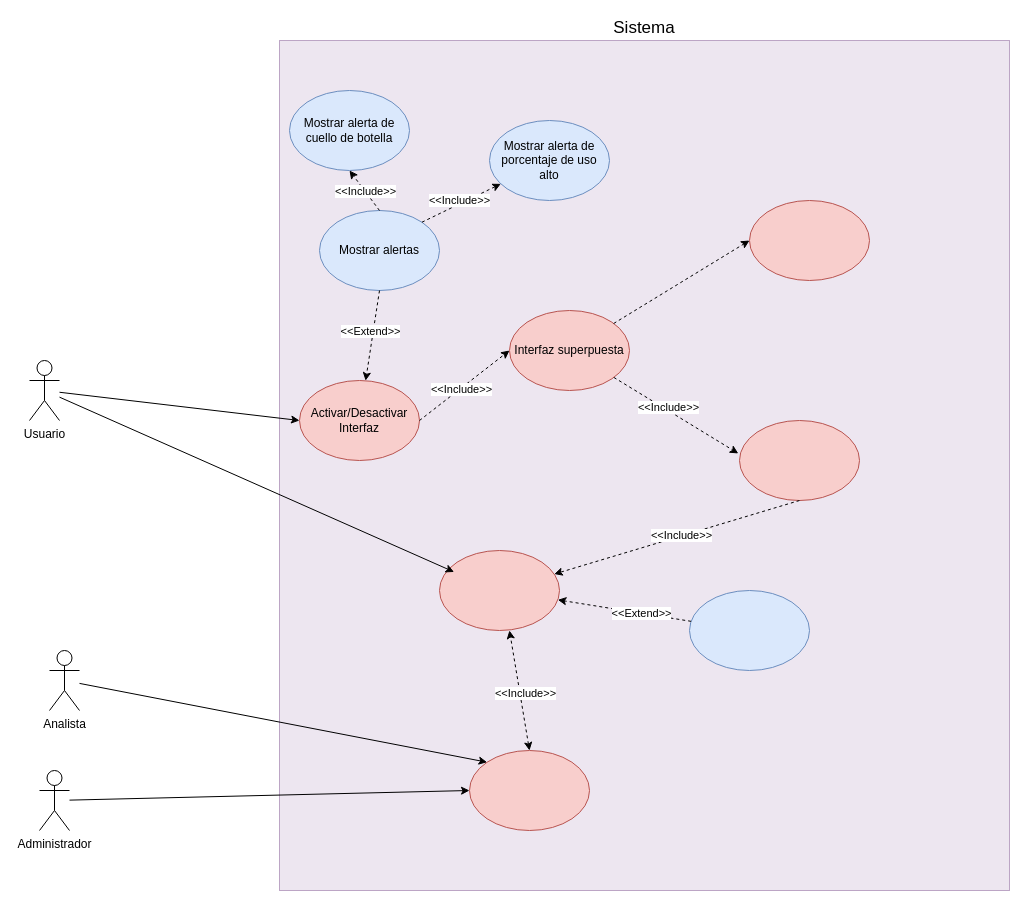
Some shapes in this 1027 by 908 pixel diagram are drawn without their labels. The centre of each missing label's shape, as x and y in pixels:
"Administrar ranking" goes at pixel 529 790.
"Comparar Resultados" goes at pixel 749 630.
"Mostrar resumen de Rendimiento" goes at pixel 799 460.
"Ver ranking" goes at pixel 499 590.
"Visualizar FPS" goes at pixel 809 240.
